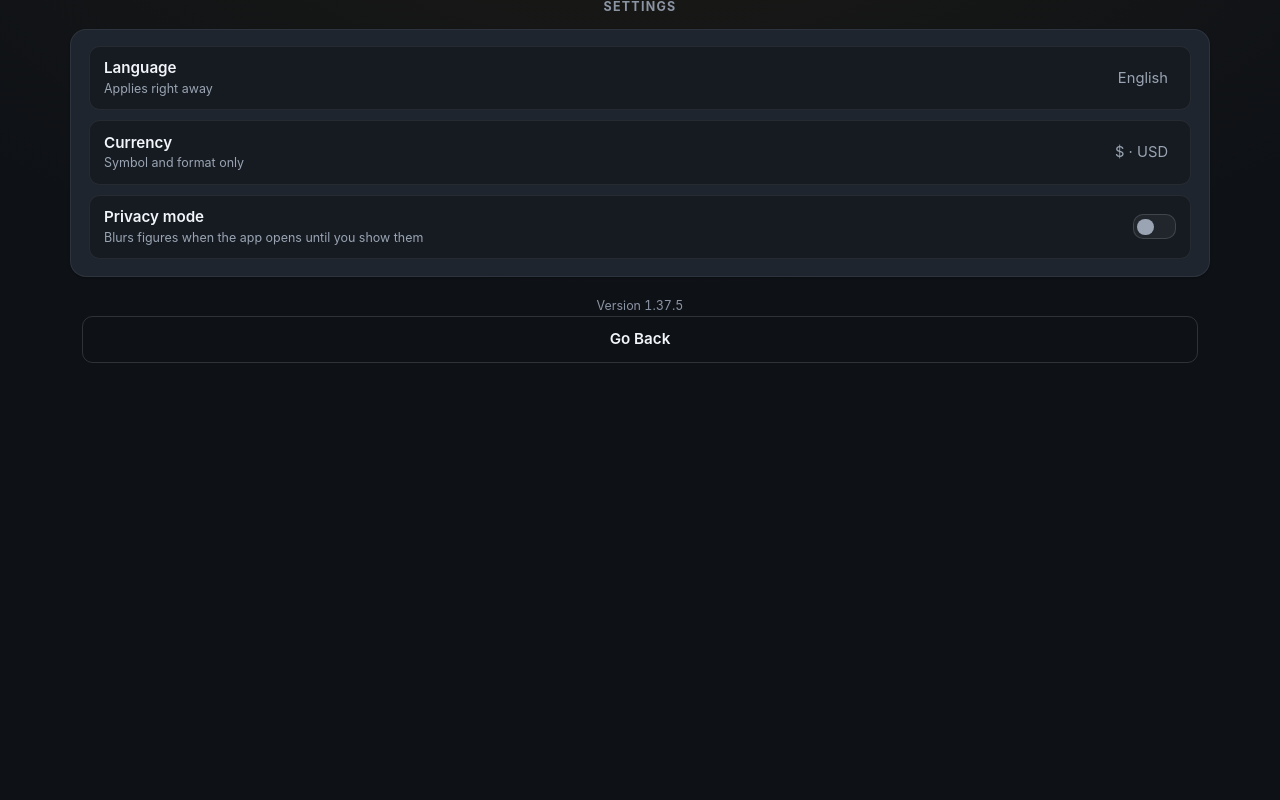
Test: Settings › closes without changing anything from Close, and returns focus to the row
The width and height of the screenshot is (1280, 800).
Click the button "Currency Symbol and format only $ · USD" at (138, 142), box [89,120,1191,185]
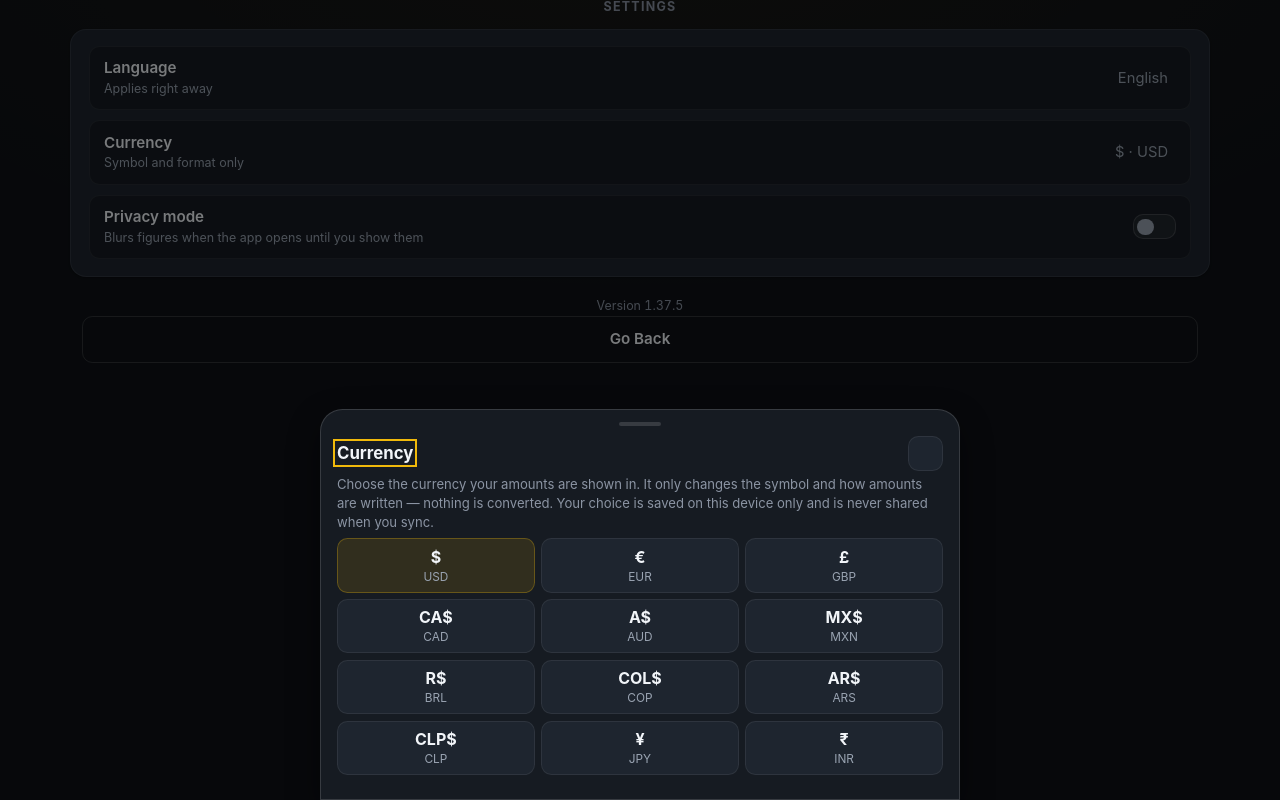
Click the button named "Close" at (925, 453), box [908,436,943,471]
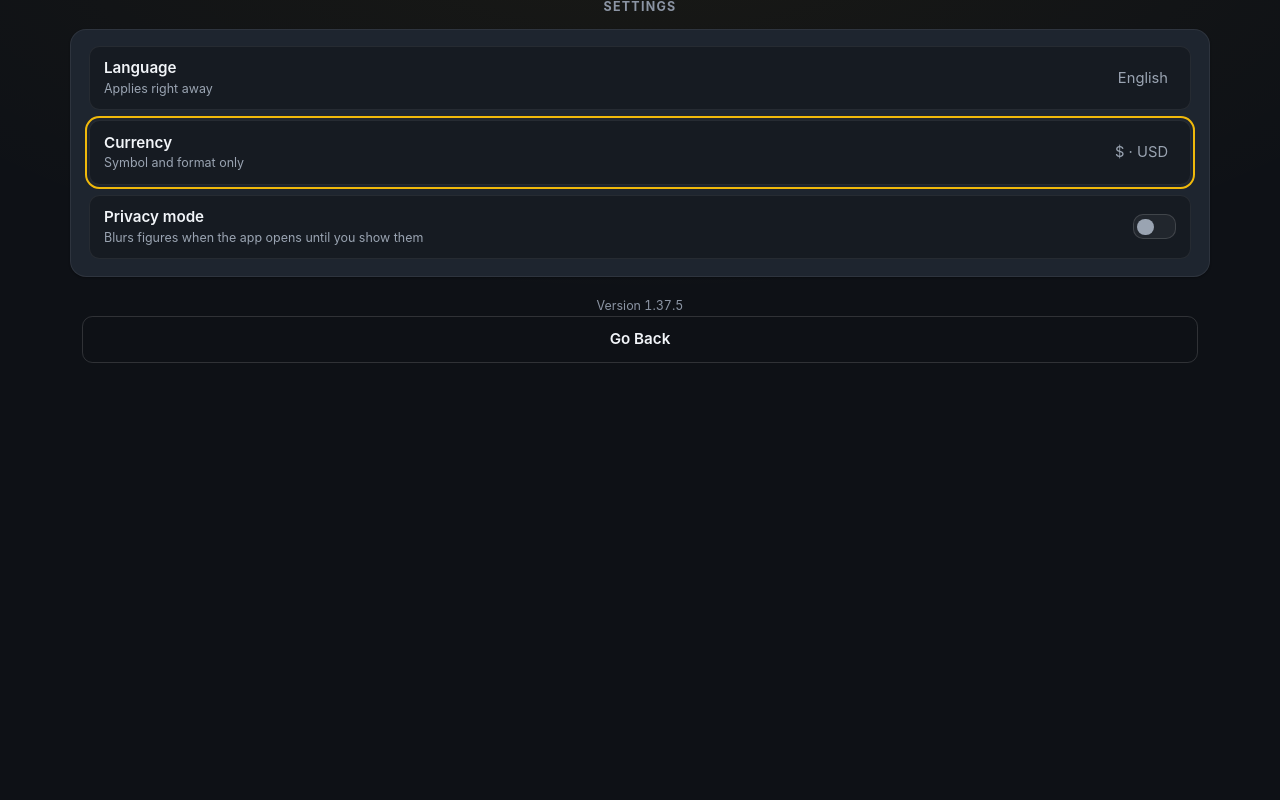
Expected: the button "Currency Symbol and format only $ · USD" is shown, [89,120,1191,185]
Now the dialog is gone
